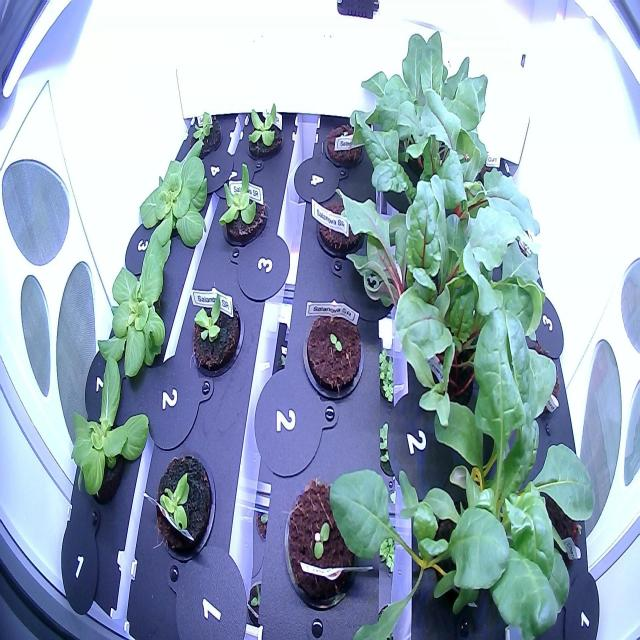germination: (272, 472, 367, 615), (294, 285, 371, 413)
pod: (528, 474, 586, 586), (310, 187, 368, 268), (318, 110, 369, 177)
young: (58, 343, 160, 512), (81, 224, 182, 390), (132, 136, 216, 267), (149, 439, 219, 566), (183, 278, 245, 384), (214, 154, 270, 253), (244, 97, 288, 169), (181, 100, 226, 164)
